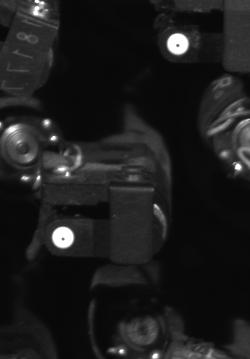fiber: (46, 220, 79, 257), (162, 28, 195, 59)
